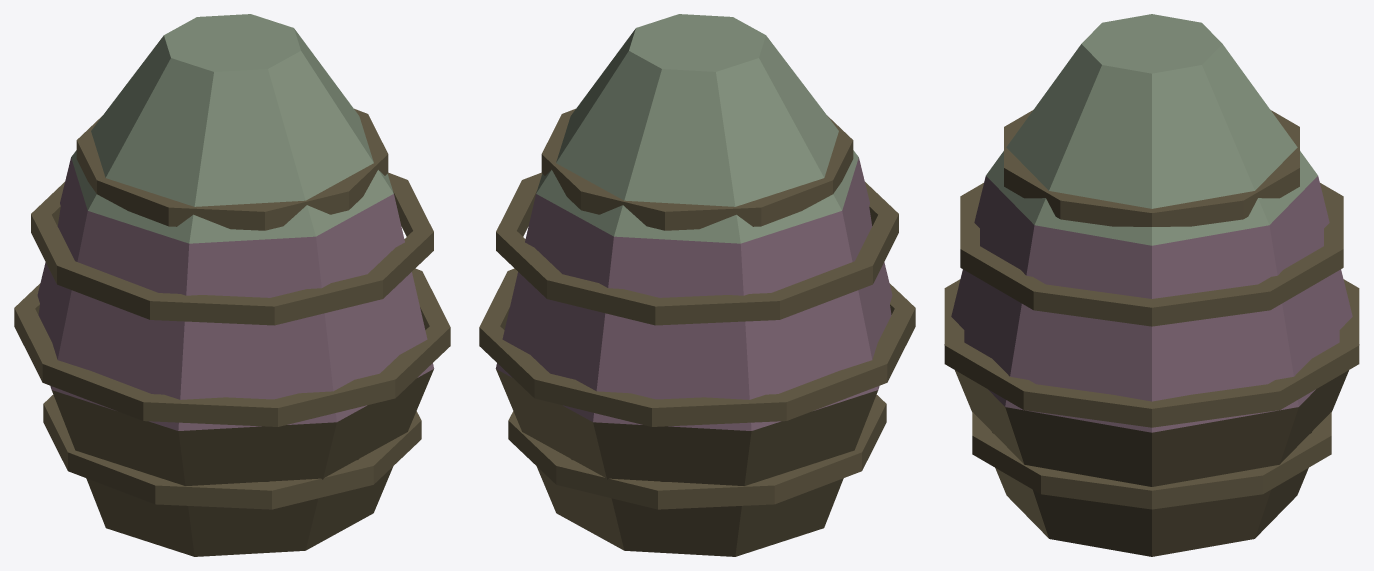
File: cocoon.glb
3 renders of one model, left to right at view 1: azimuth 30°, elevation 25°; view 2: azimuth 150°, elevation 25°; view 3: azimuth 270°, elevation 25°, orthographic.
Parts seen in each view (by area): view 1: cocoon__body; view 2: cocoon__body; view 3: cocoon__body.
Boxes of the visible parts, x1=… form: cocoon__body: x1=14, y1=14, x2=450, y2=556; cocoon__body: x1=479, y1=14, x2=915, y2=556; cocoon__body: x1=944, y1=14, x2=1359, y2=556.
Bounding box in the file's own units: 1.05 × 1.2 × 1.
